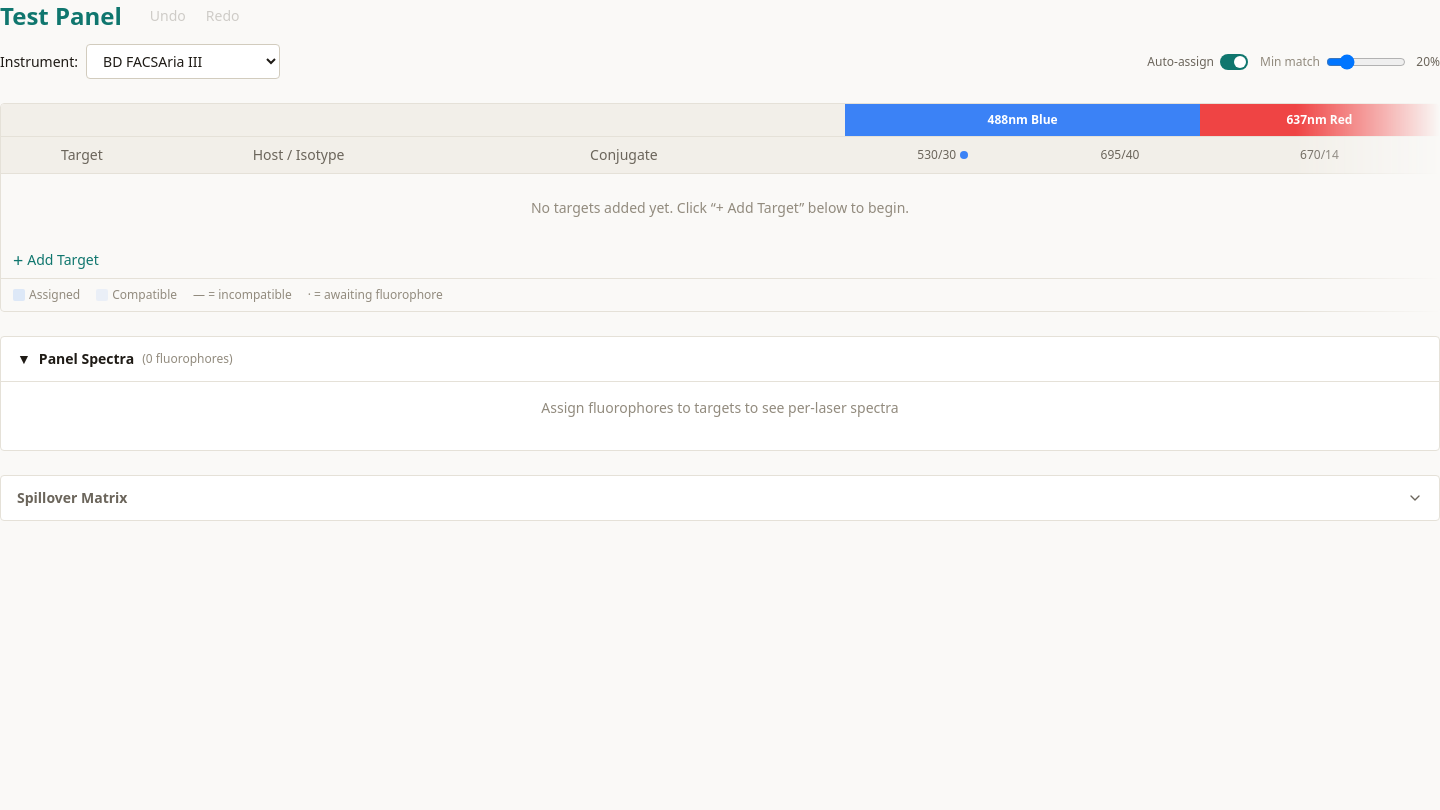
Test: PanelDesignerView › instrument selector › changing the instrument when assignments exist shows the confirmation modal
Select "Sony ID7000" in the dropdown labelled "Instrument:": (183, 62) x1=86 y1=44 x2=280 y2=79
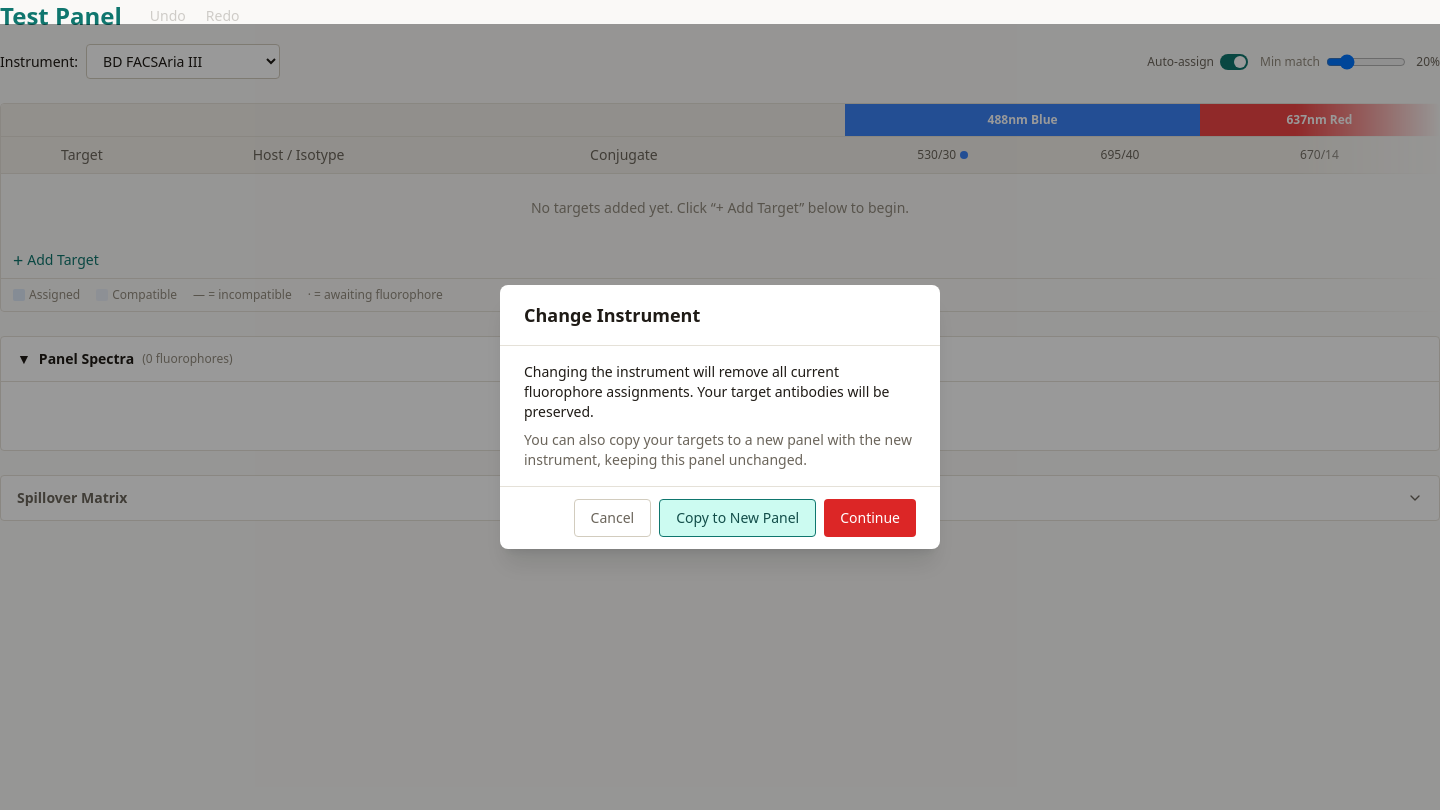
Result: the heading "Change Instrument" is shown at x1=524 y1=303 x2=700 y2=327
